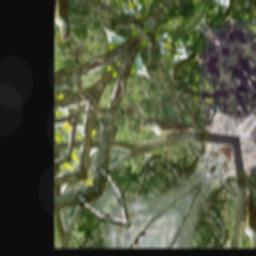Cuckoo: (136, 85, 210, 172)
